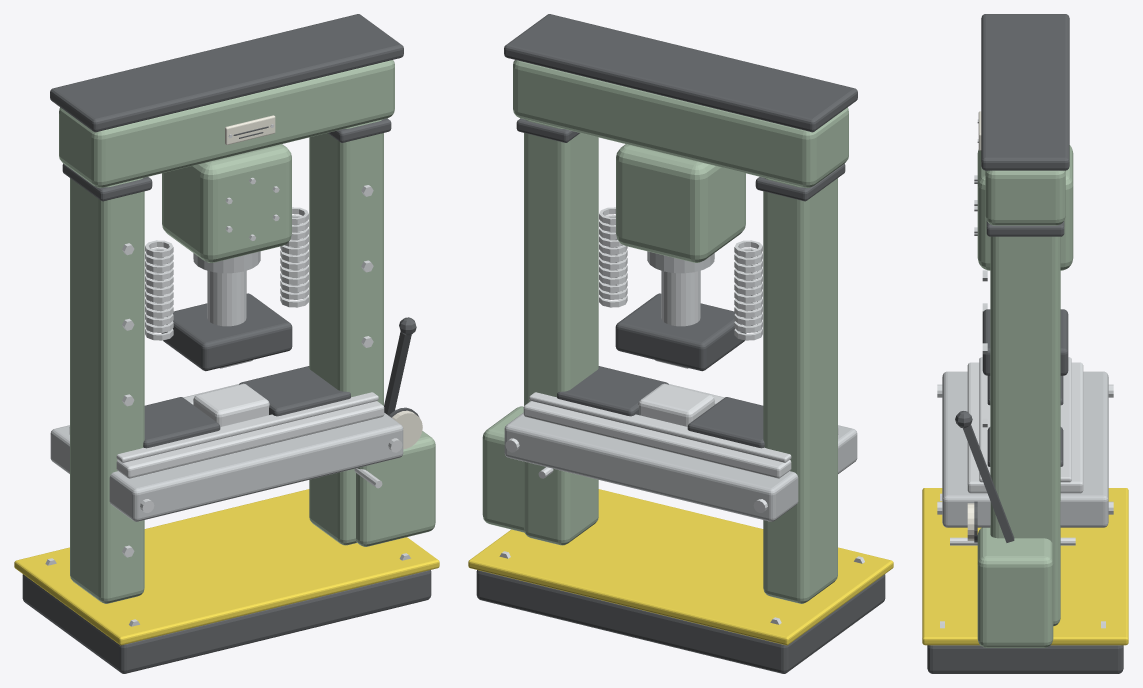
Rendered from hydraulic-workshop-press-h-frame.glb.
3 views of the same model, side by side, from view 1: azimuth 30°, elevation 25°; view 2: azimuth 150°, elevation 25°; view 3: azimuth 270°, elevation 25° (orthographic). The views are drawn at different scales.
Visible parts, largest first — view 1: machine-shop-and-factory-hall-hydraulic-press, press-ram/charcoal, press-ram/steel; view 2: machine-shop-and-factory-hall-hydraulic-press, press-ram/charcoal, press-ram/steel; view 3: machine-shop-and-factory-hall-hydraulic-press, press-ram/charcoal.
Part boxes in pixels (bbox=[...]): machine-shop-and-factory-hall-hydraulic-press: bbox=[14, 14, 439, 673]; press-ram/charcoal: bbox=[161, 293, 292, 371]; press-ram/steel: bbox=[207, 270, 252, 368]; machine-shop-and-factory-hall-hydraulic-press: bbox=[468, 14, 893, 673]; press-ram/charcoal: bbox=[615, 293, 746, 371]; press-ram/steel: bbox=[655, 270, 700, 368]; machine-shop-and-factory-hall-hydraulic-press: bbox=[922, 14, 1128, 673]; press-ram/charcoal: bbox=[982, 309, 1068, 375].
Size of the model in its own units: 1.54 by 2.27 by 0.82.
